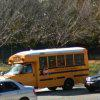Bus: (9, 45, 93, 88)
